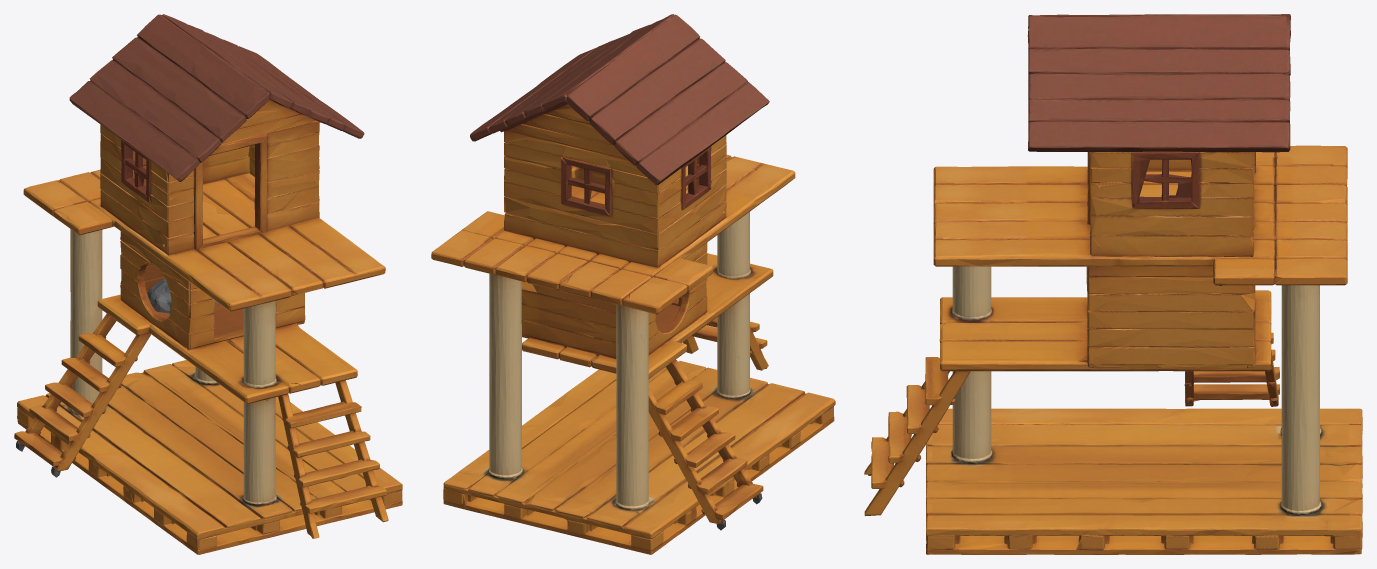
The model's file is DOM_kotik_8__base.glb.
3 views of the same model, side by side, from view 1: azimuth 30°, elevation 25°; view 2: azimuth 150°, elevation 25°; view 3: azimuth 270°, elevation 25° (orthographic). The views are drawn at different scales.
Parts seen in each view (by area): view 1: tripo_node_e8b096d0-3ba7-417c-9c7e-78039d316222; view 2: tripo_node_e8b096d0-3ba7-417c-9c7e-78039d316222; view 3: tripo_node_e8b096d0-3ba7-417c-9c7e-78039d316222.
Part boxes in pixels (x1,y1,x2,y2): tripo_node_e8b096d0-3ba7-417c-9c7e-78039d316222: (14,14,402,554); tripo_node_e8b096d0-3ba7-417c-9c7e-78039d316222: (431,14,835,554); tripo_node_e8b096d0-3ba7-417c-9c7e-78039d316222: (864,14,1362,554).
Bounding box in the file's own units: 0.6607 × 0.9784 × 0.9073.
1 material, 1 textured.
